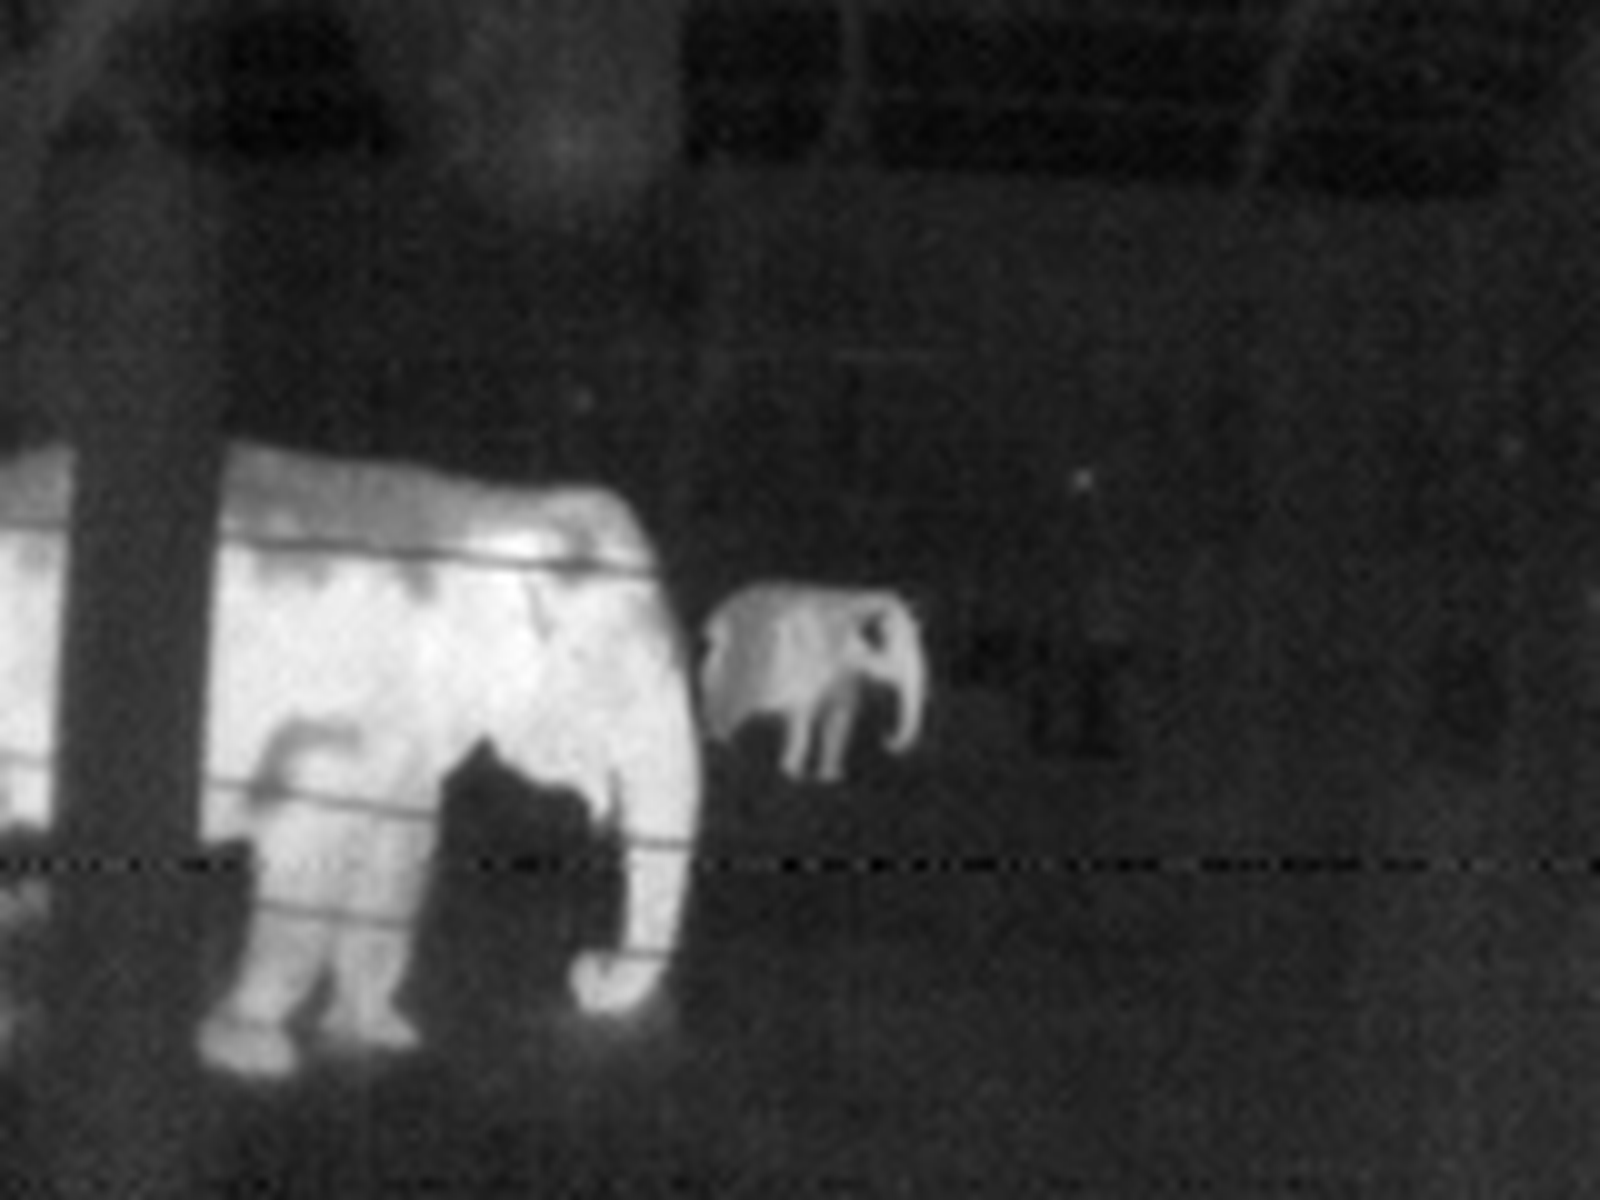elephant: (4, 374, 937, 1080)
